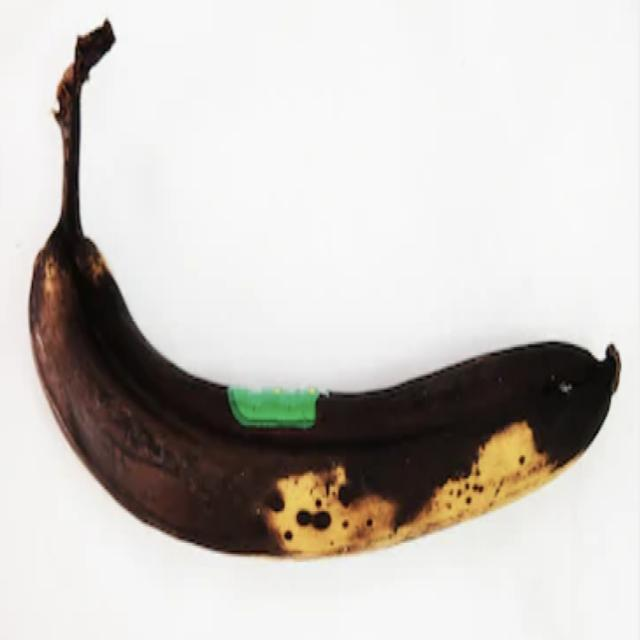rotten-banana: (26, 16, 622, 560)
